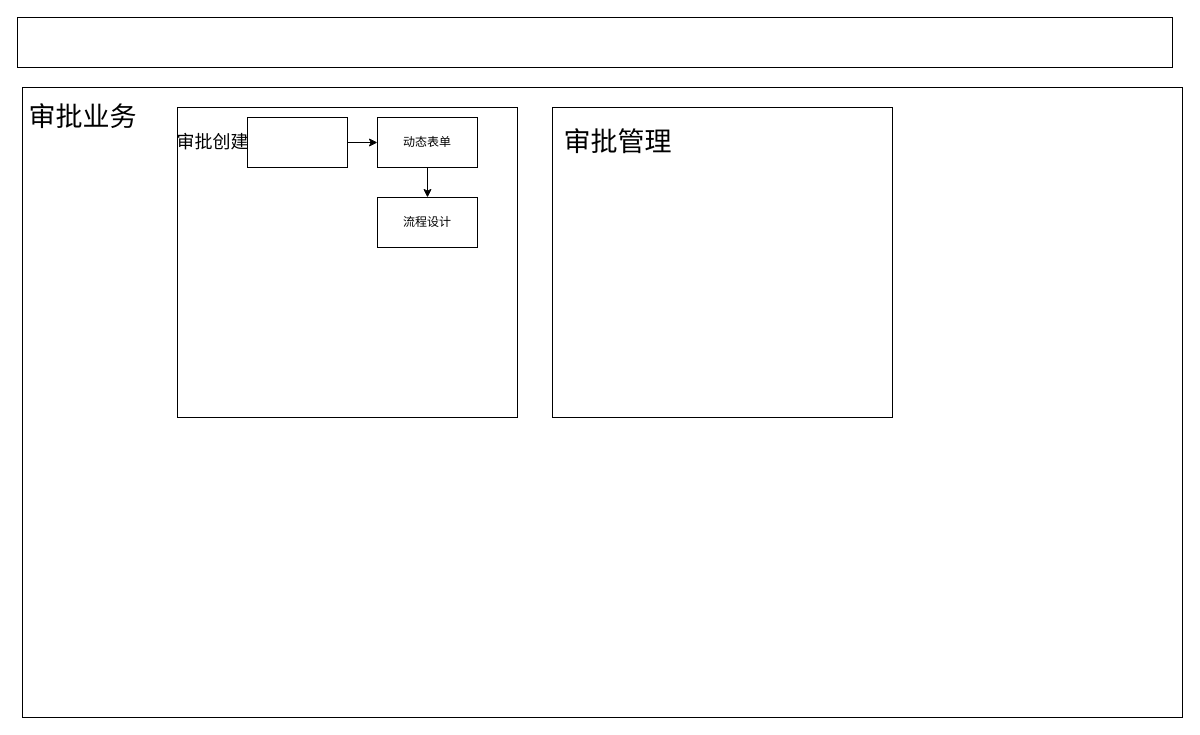
Image size: 1200x735. Some labels were removed from this diagram. The shapes that lost their labels are listed below. From the top down, each one's centre as x and y in pixels, then its label:
the point at 594,42: 后台 OA 系统
the point at 297,142: 基础设置
